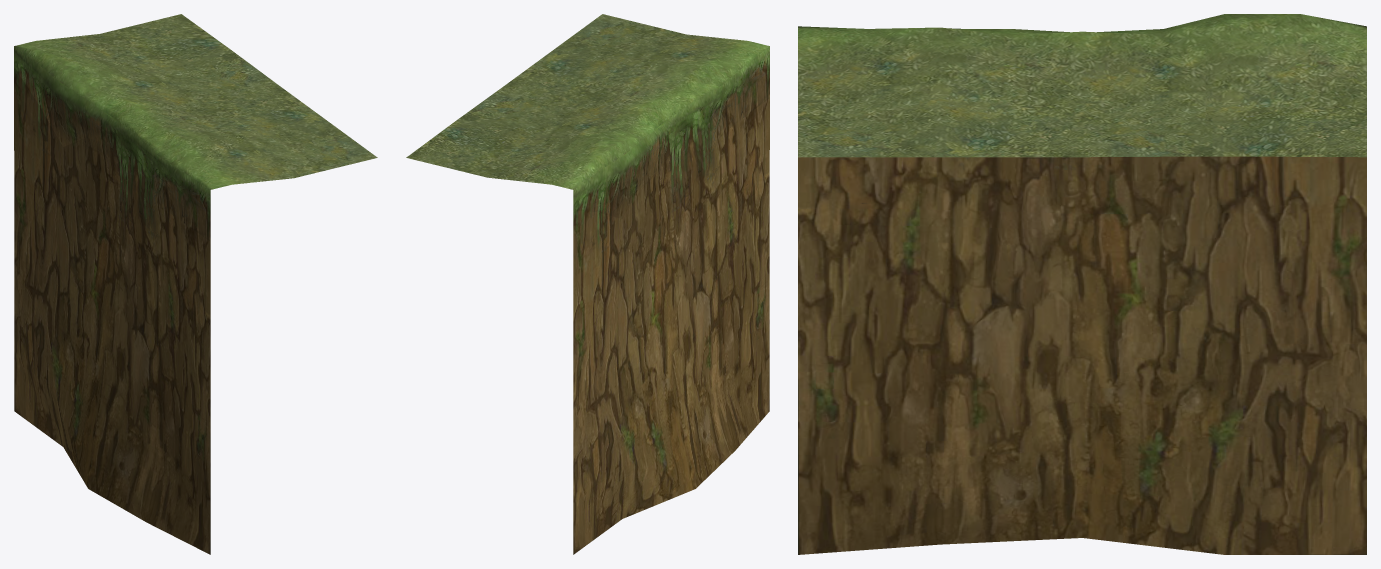
File: GrounEdgeSlim.FBX
The picture shows the model from 3 angles, left to right: view 1: azimuth 30°, elevation 25°; view 2: azimuth 150°, elevation 25°; view 3: azimuth 270°, elevation 25°; orthographic projection. The views are drawn at different scales.
Visible parts, largest first — view 1: Plane001; view 2: Plane001; view 3: Plane001.
Part boxes in pixels (bbox=[...]): Plane001: bbox=[14, 14, 377, 554]; Plane001: bbox=[406, 14, 769, 554]; Plane001: bbox=[798, 14, 1366, 554].
Bounding box in the file's own units: 221 × 394 × 415.
Materials: 1 (1 with a texture image).
